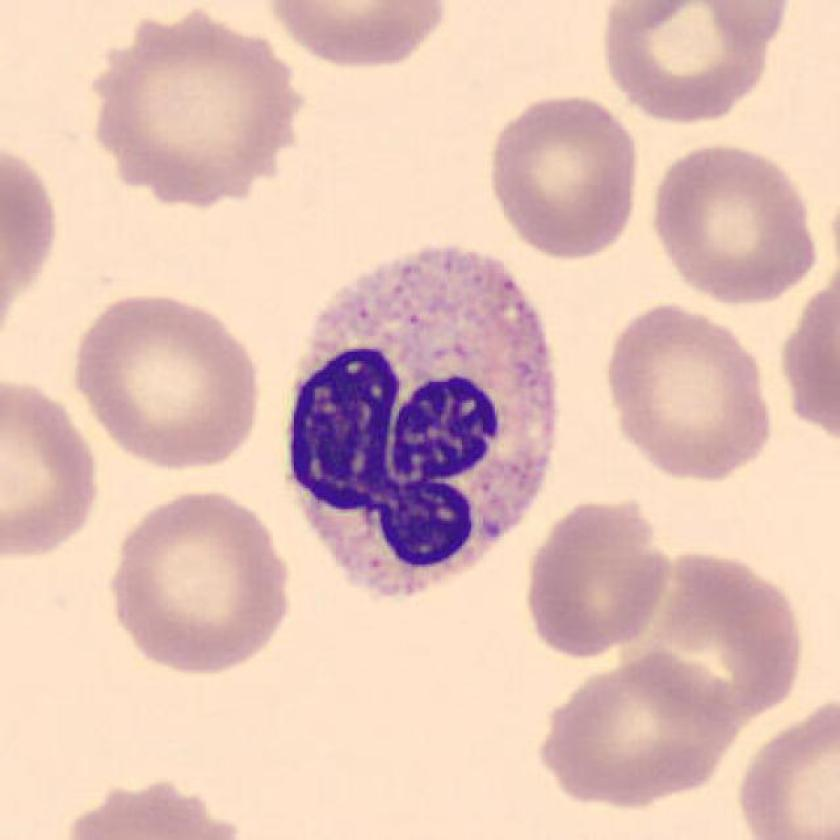neutrophil: (291, 244, 555, 599)
